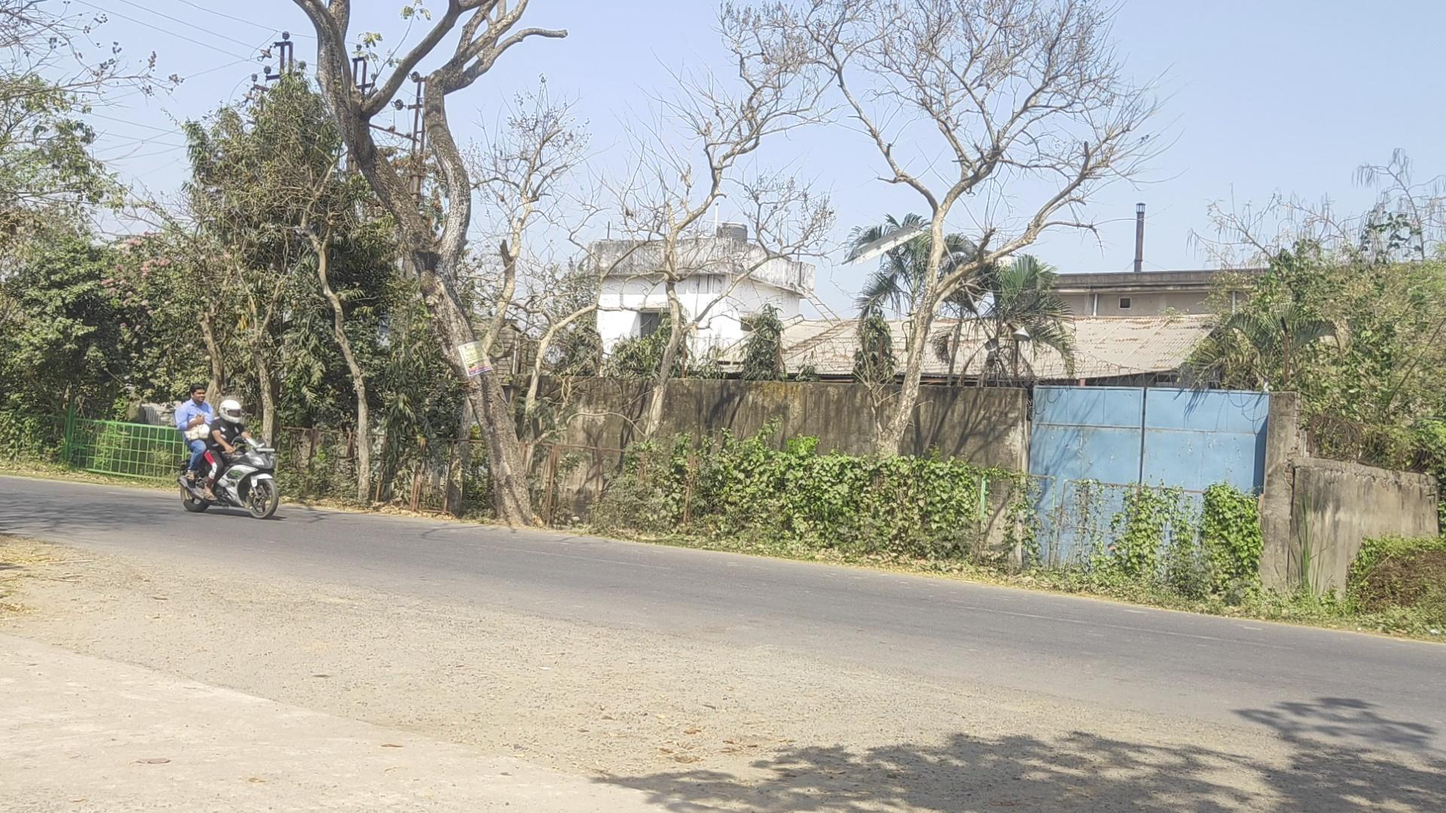bike: (174, 383, 279, 519)
